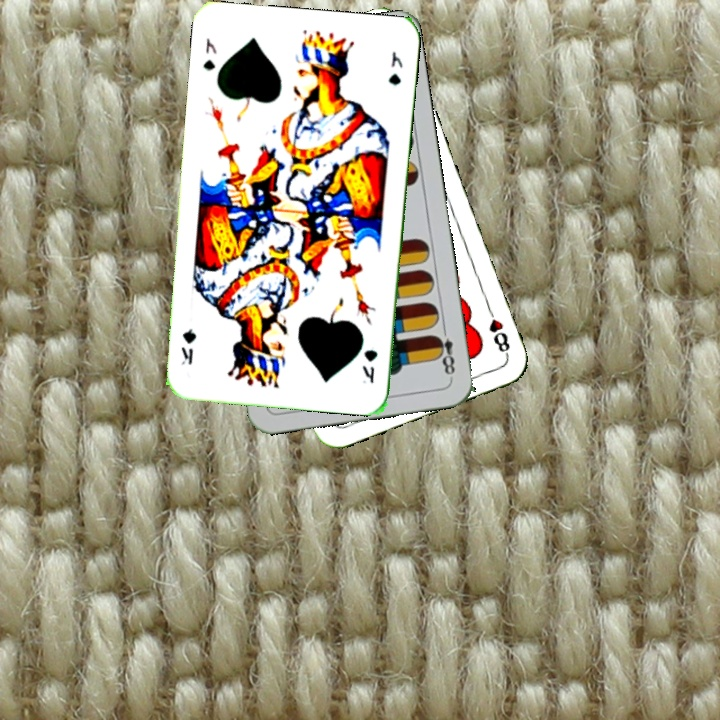E8: (431, 322, 458, 381)
GK: (358, 345, 380, 385), (199, 34, 219, 73)
H8: (483, 302, 513, 359)
